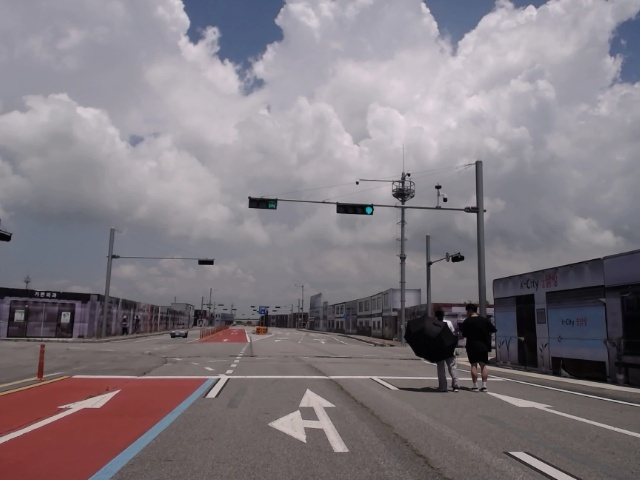straight_green_4: (336, 203, 376, 216)
